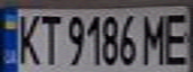1: (81, 11, 103, 66)
6: (118, 11, 142, 66)
8: (100, 11, 121, 66)
9: (63, 11, 87, 66)
E: (160, 8, 193, 66)
K: (9, 10, 42, 66)
M: (139, 10, 172, 66)
T: (33, 11, 63, 66)
